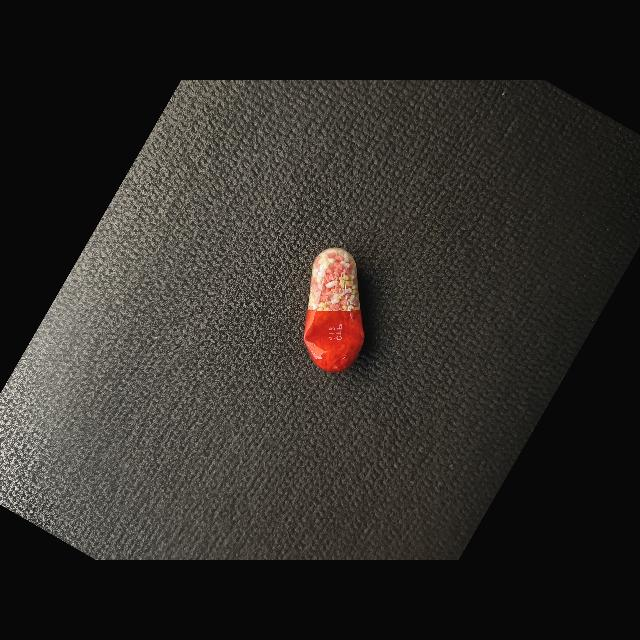Defective Capsule: (303, 248, 365, 372)
